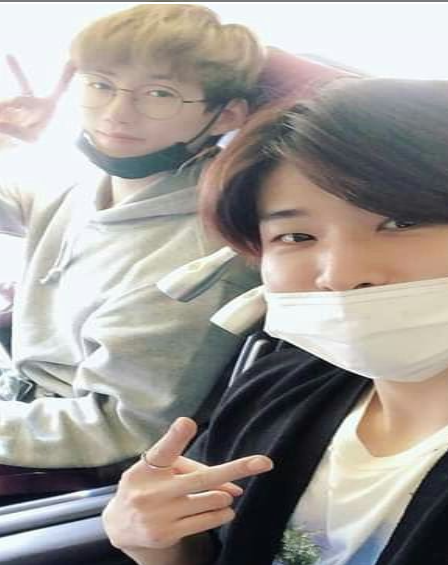mask_weared_incorrect: (228, 79, 447, 386), (60, 5, 259, 180)
